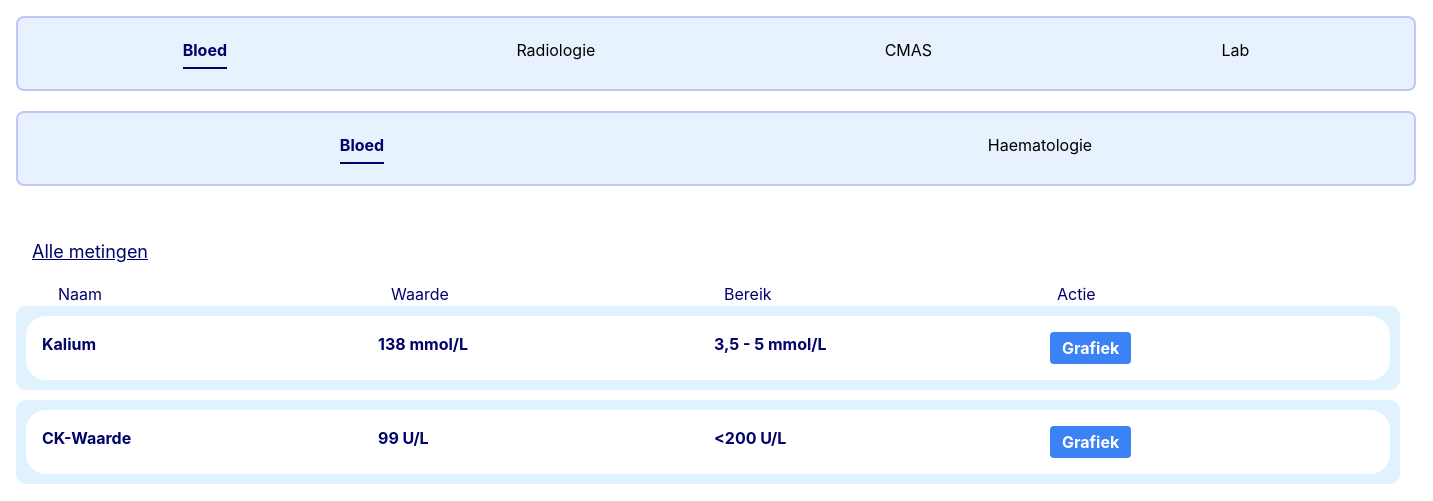
MeasurementsPage › changes blood tab when a different blood tab is clicked
First ensure we're on the blood main tab
Step 1. Click the tab "Bloed" in the row of "Radiologie" → (205, 54), box [183,38,227,69]
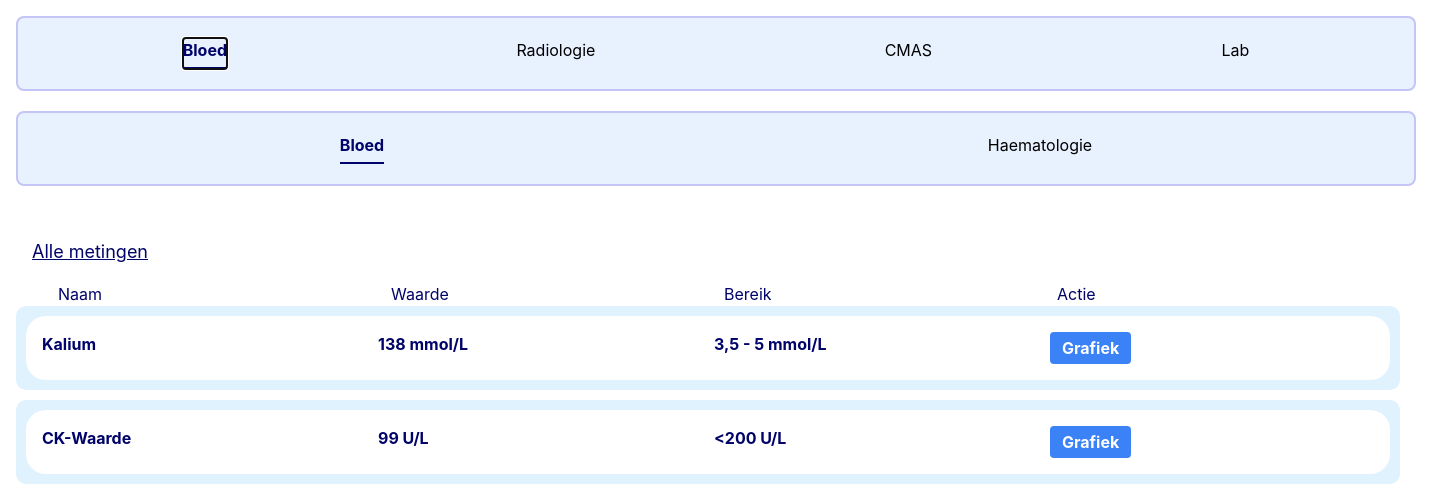
Then click the Haematologie sub-tab
Step 2. Click the tab "Haematologie" → (1040, 148), box [988,133,1092,164]
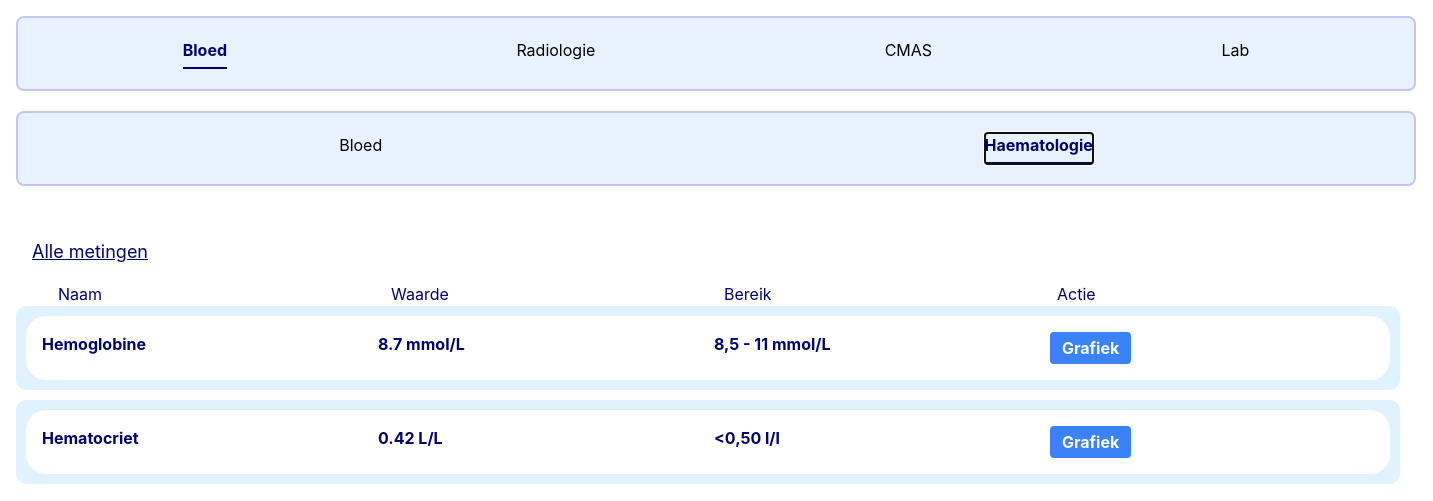
Check: the text "Hemoglobine" is shown, box [42,334,146,354]
Check: the text "Hematocriet" is shown, box [42,428,139,448]
